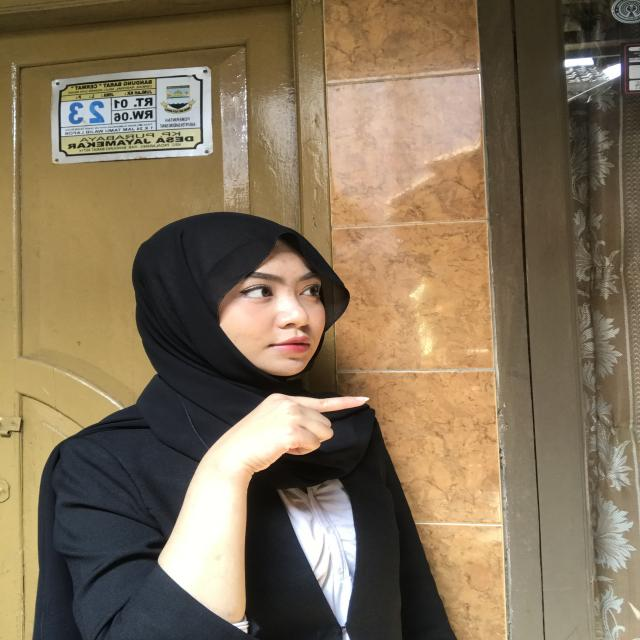kamu: (157, 375, 411, 495), (163, 378, 411, 496)
